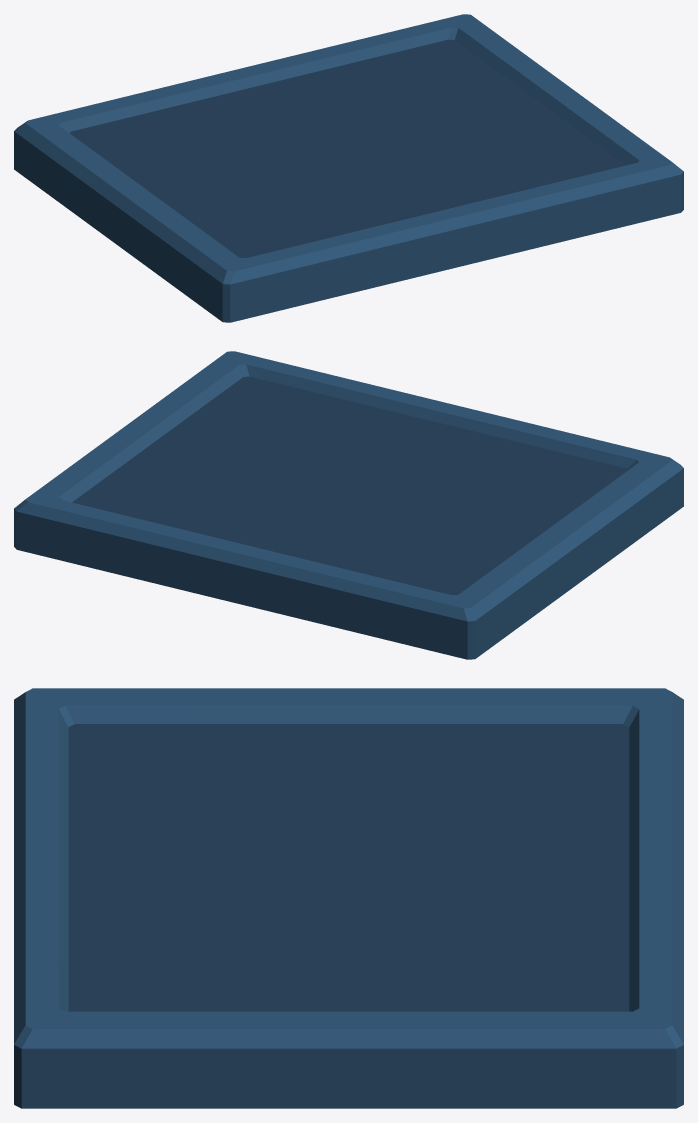
File: RoofAdd_1_F.fbx
3 views of the same model, one above another, from view 1: azimuth 30°, elevation 25°; view 2: azimuth 150°, elevation 25°; view 3: azimuth 270°, elevation 25° (orthographic). The views are drawn at different scales.
Visible parts, largest first — view 1: RoofAdd_1_F; view 2: RoofAdd_1_F; view 3: RoofAdd_1_F.
Boxes of the visible parts, x1=… form: RoofAdd_1_F: x1=14, y1=14, x2=683, y2=322; RoofAdd_1_F: x1=14, y1=351, x2=683, y2=659; RoofAdd_1_F: x1=14, y1=688, x2=683, y2=1108.
Size of the model in its own units: 126 by 12.27 by 101.
